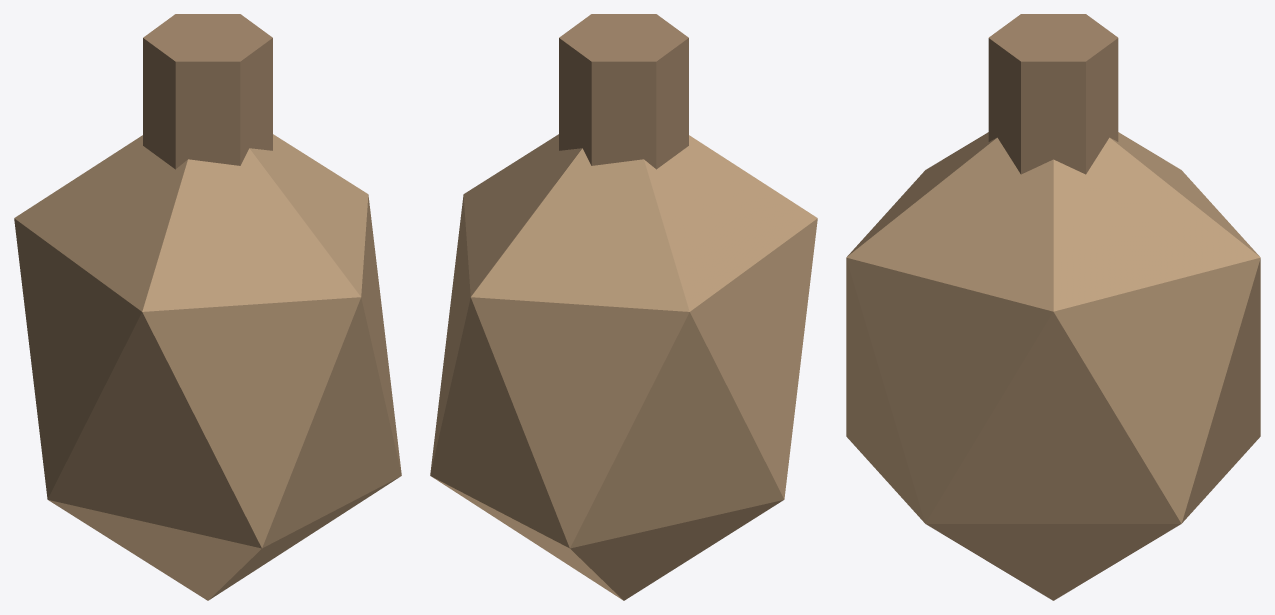
Rendered from item_waterskin.glb.
3 renders of one model, left to right at view 1: azimuth 30°, elevation 25°; view 2: azimuth 150°, elevation 25°; view 3: azimuth 270°, elevation 25°, orthographic.
Parts seen in each view (by area): view 1: item_waterskin; view 2: item_waterskin; view 3: item_waterskin.
Part boxes in pixels (<box>): item_waterskin: <box>14,14,401,600</box>; item_waterskin: <box>430,14,817,600</box>; item_waterskin: <box>846,14,1260,600</box>.
Size of the model in its own units: 0.2281 by 0.3825 by 0.2552.
